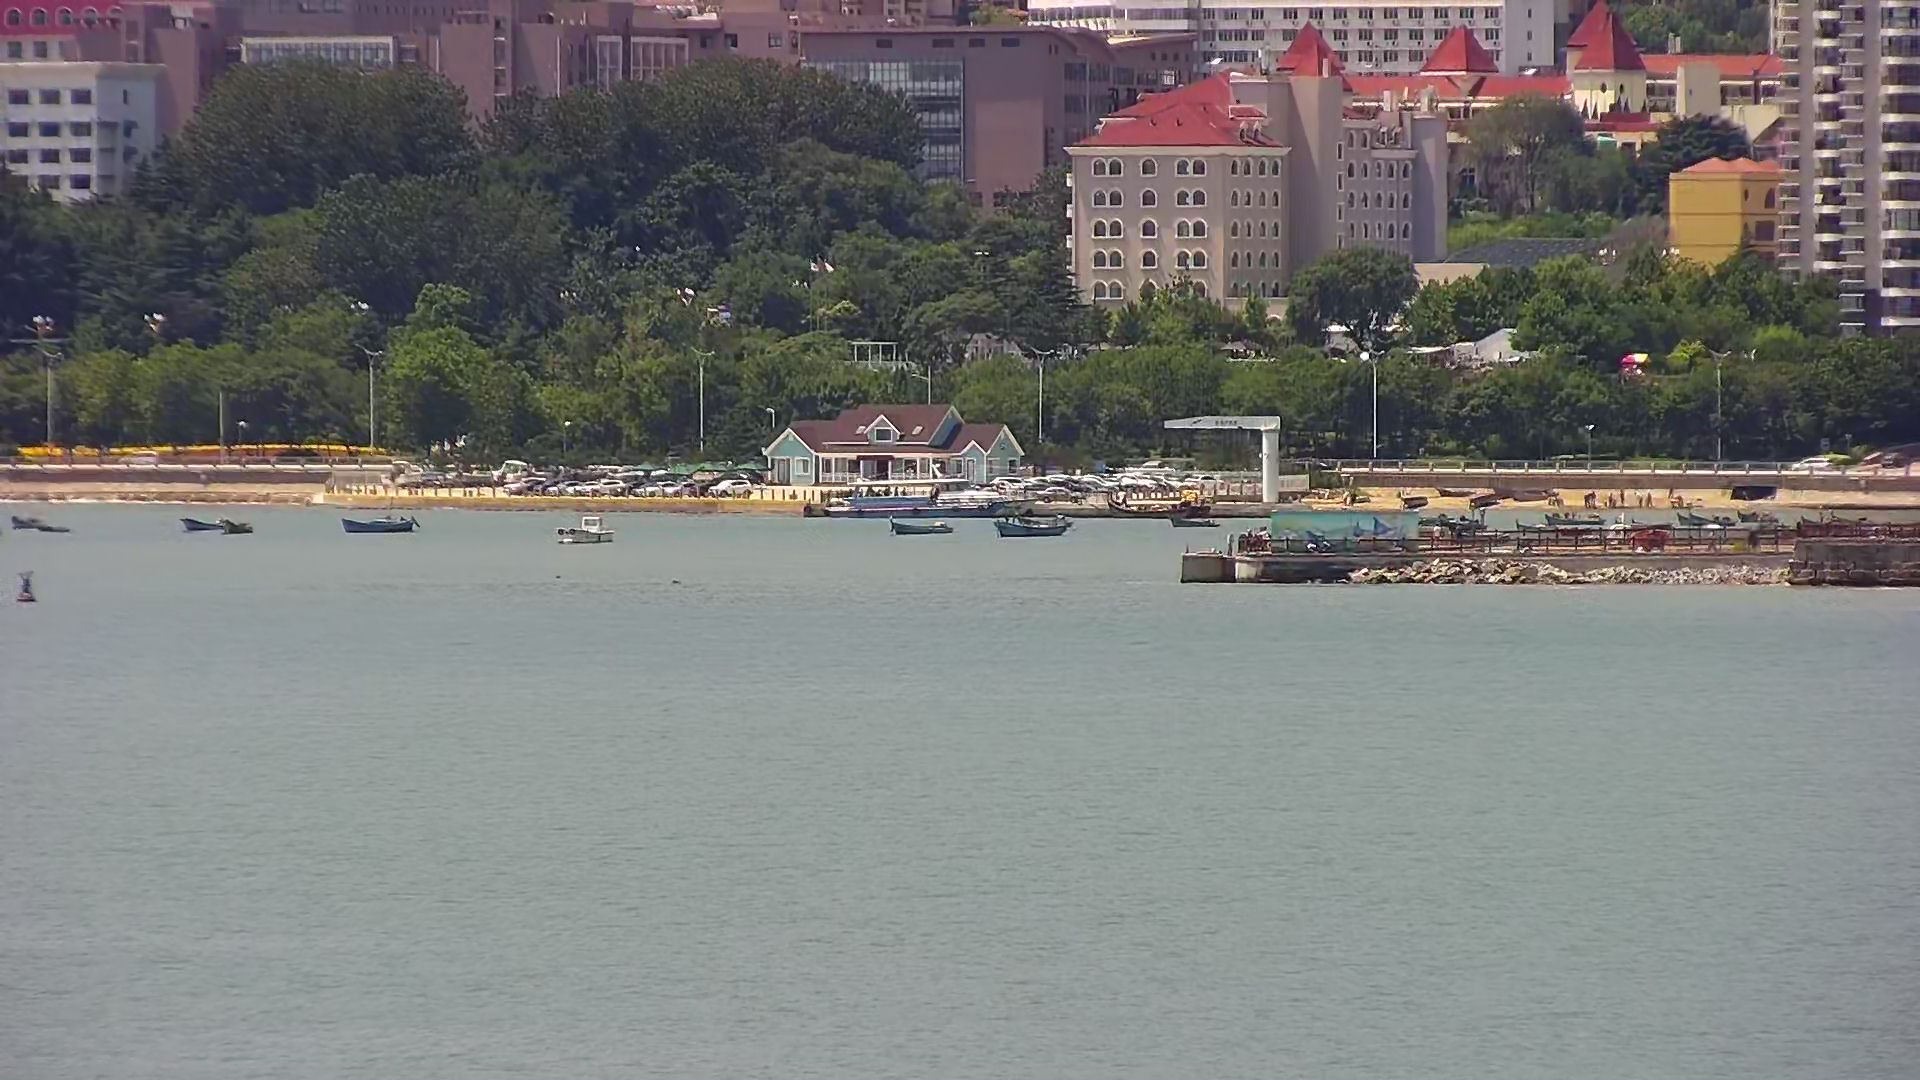boat: (988, 513, 1080, 543), (332, 512, 433, 539), (178, 508, 256, 539), (880, 513, 957, 543), (12, 505, 73, 543), (555, 516, 622, 550)
buoy: (15, 564, 44, 611)
harbor: (1163, 411, 1830, 593)
